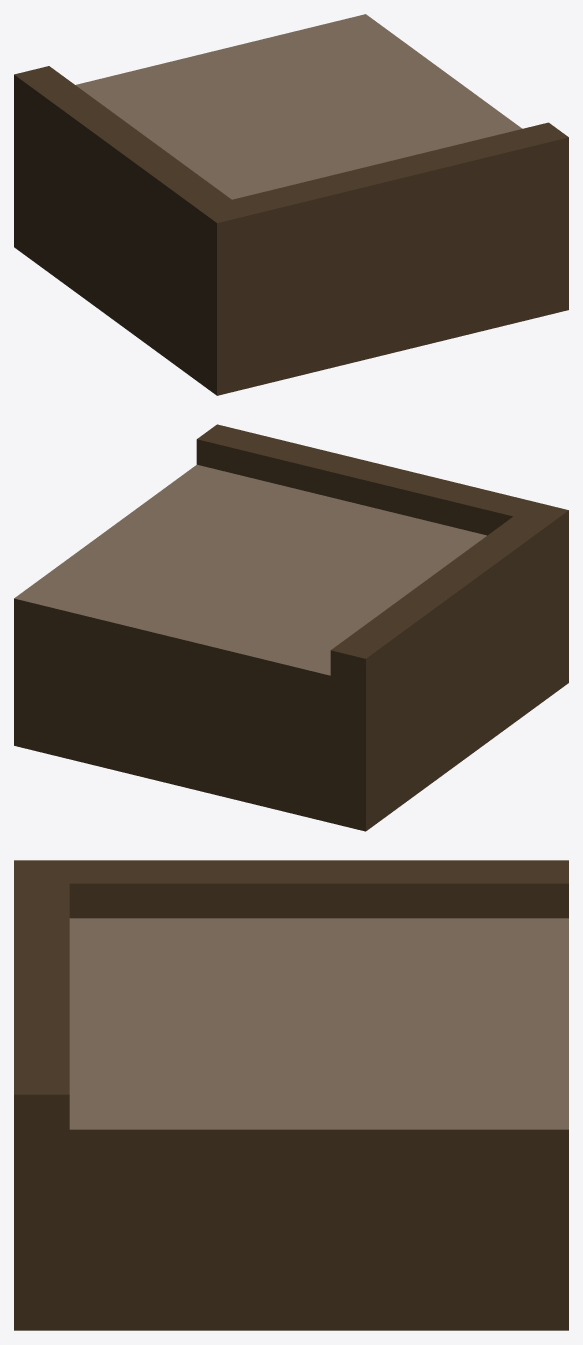
The model's file is table_corner.fbx.
The picture shows the model from 3 angles, top to bottom: view 1: azimuth 30°, elevation 25°; view 2: azimuth 150°, elevation 25°; view 3: azimuth 270°, elevation 25°; orthographic projection. The views are drawn at different scales.
Visible parts, largest first — view 1: Cube.002; view 2: Cube.002; view 3: Cube.002.
Boxes of the visible parts, box(x1,y1,x2,y2) form: Cube.002: box(14, 14, 568, 395); Cube.002: box(14, 424, 568, 831); Cube.002: box(14, 860, 568, 1330).
Size of the model in its own units: 100 by 46.91 by 100.
